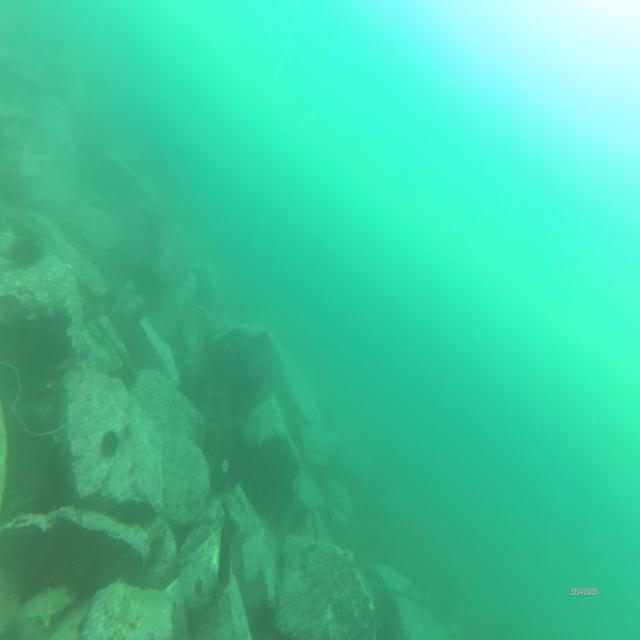echinus: (8, 233, 46, 272), (206, 465, 230, 503), (100, 427, 122, 460), (188, 382, 206, 412)
